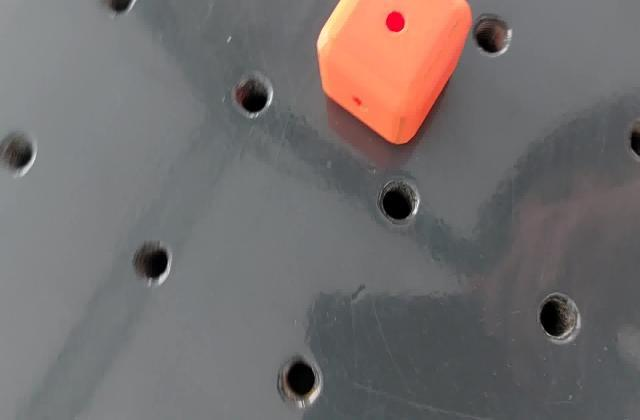cube: (313, 1, 476, 148)
